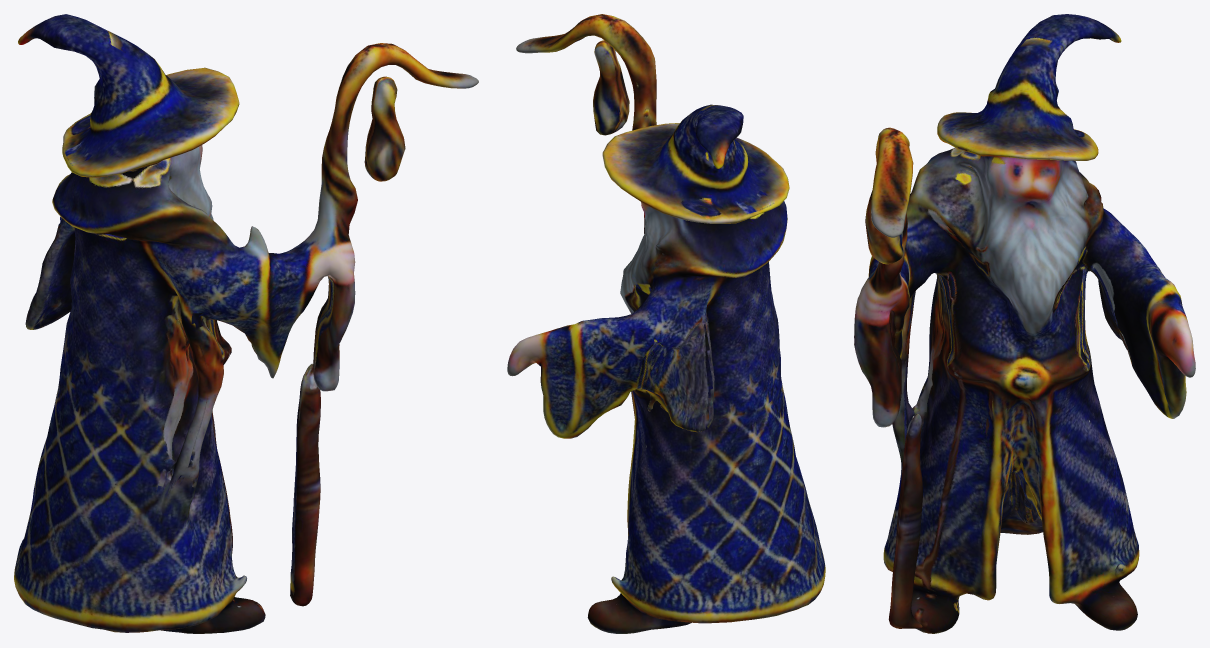
File: Mage.fbx
The picture shows the model from 3 angles, left to right: view 1: azimuth 30°, elevation 25°; view 2: azimuth 150°, elevation 25°; view 3: azimuth 270°, elevation 25°; orthographic projection. The views are drawn at different scales.
Parts seen in each view (by area): view 1: mesh; view 2: mesh; view 3: mesh.
Part boxes in pixels (bbox=[...]): mesh: bbox=[14, 14, 478, 633]; mesh: bbox=[507, 14, 825, 633]; mesh: bbox=[854, 14, 1195, 633].
Size of the model in its own units: 70.65 by 99.93 by 55.24.
